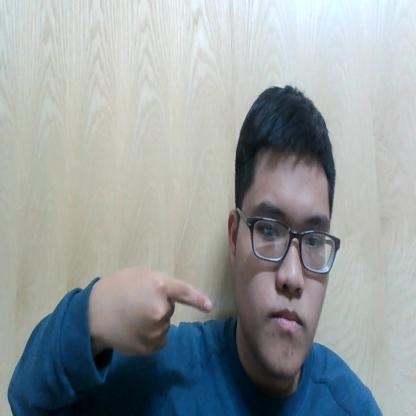left: (110, 254, 218, 366)
